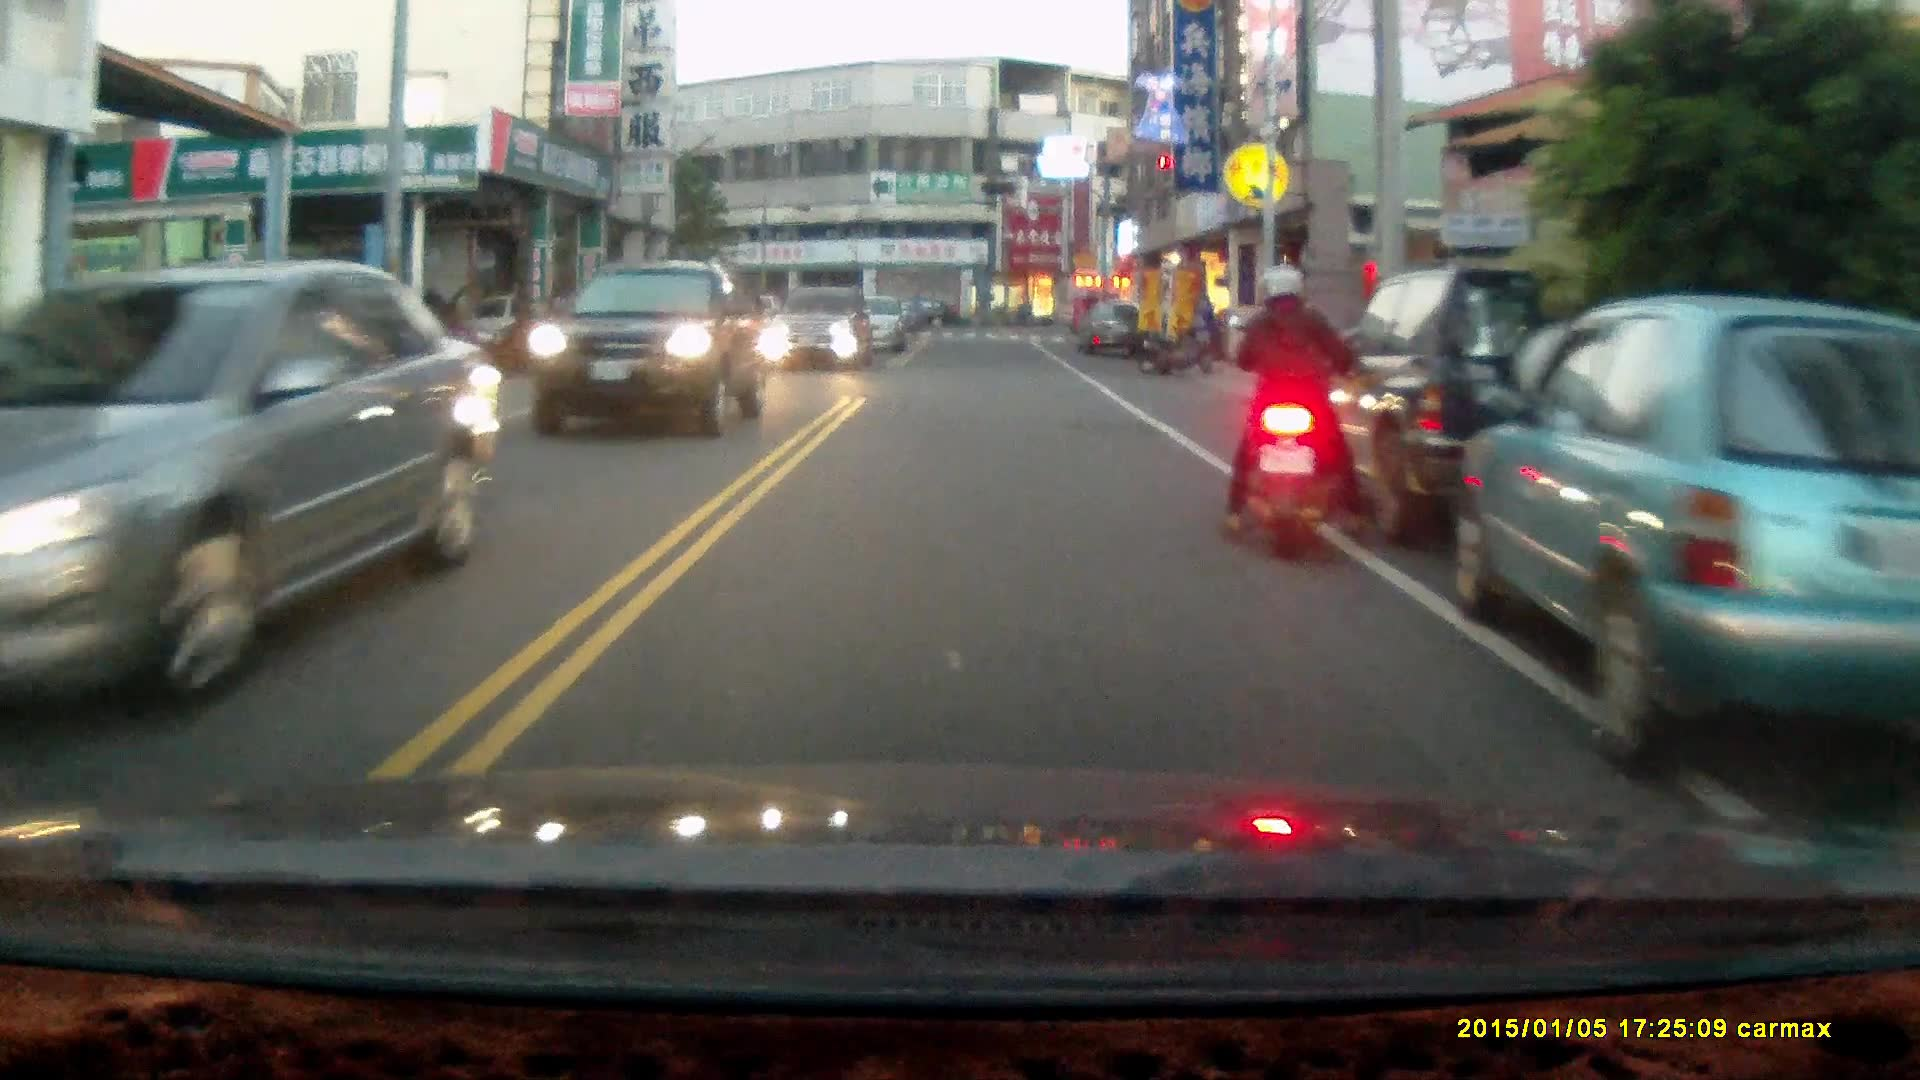rider: (1219, 264, 1368, 567)
vehicle: (1, 258, 517, 724), (1454, 294, 1920, 781), (1276, 264, 1675, 550), (528, 257, 757, 431), (758, 285, 881, 371), (1076, 301, 1146, 359)
